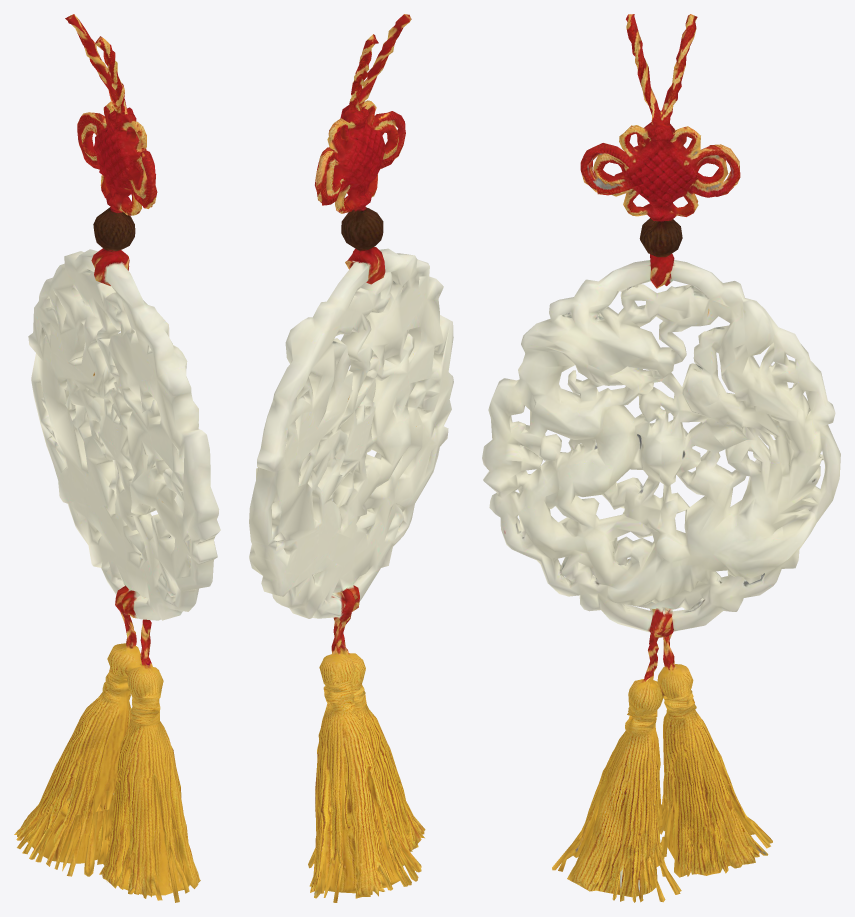
Rendered from luxury_jade_pendant.glb.
The picture shows the model from 3 angles, left to right: view 1: azimuth 30°, elevation 25°; view 2: azimuth 150°, elevation 25°; view 3: azimuth 270°, elevation 25°; orthographic projection.
Parts seen in each view (by area): view 1: NormalizedProp; view 2: NormalizedProp; view 3: NormalizedProp.
Boxes of the visible parts, box(x1,y1,x2,y2) form: NormalizedProp: box(14, 14, 220, 902); NormalizedProp: box(249, 14, 453, 902); NormalizedProp: box(482, 14, 840, 902).
Bounding box in the file's own units: 0.00752 × 0.0472 × 0.0181.
Materials: 1 (1 with a texture image).
